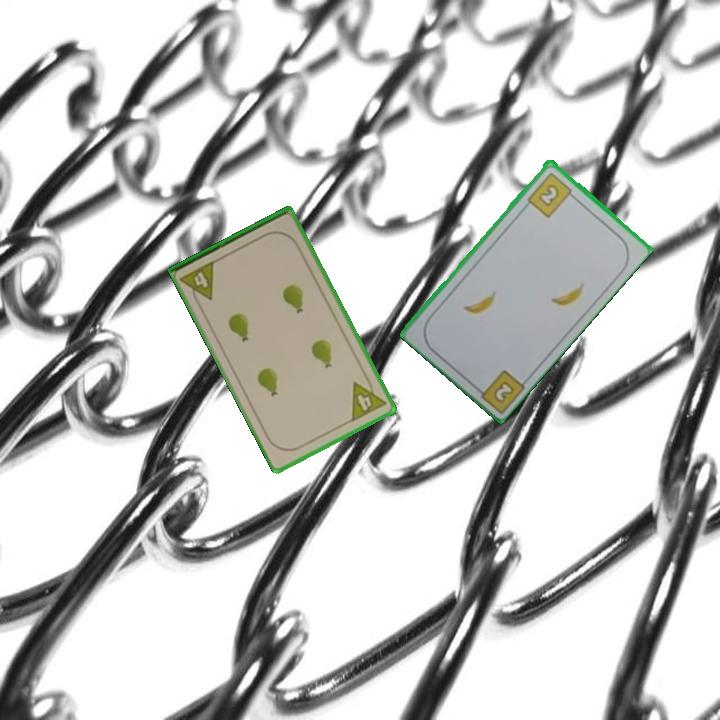2b: (523, 168, 578, 220), (490, 377, 517, 405)
4p: (348, 372, 389, 425), (177, 257, 219, 308)
